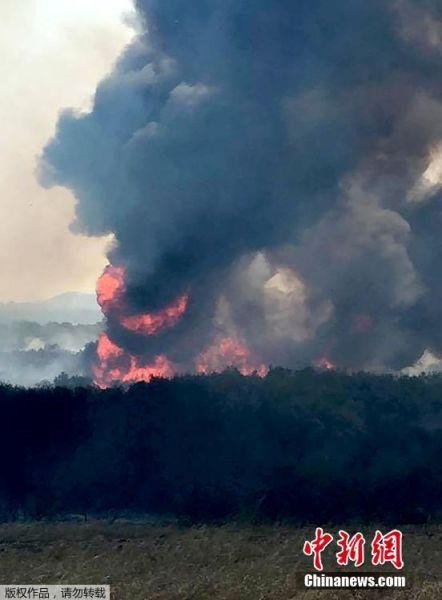fire: (98, 285, 191, 378)
smoke: (131, 11, 426, 269)
